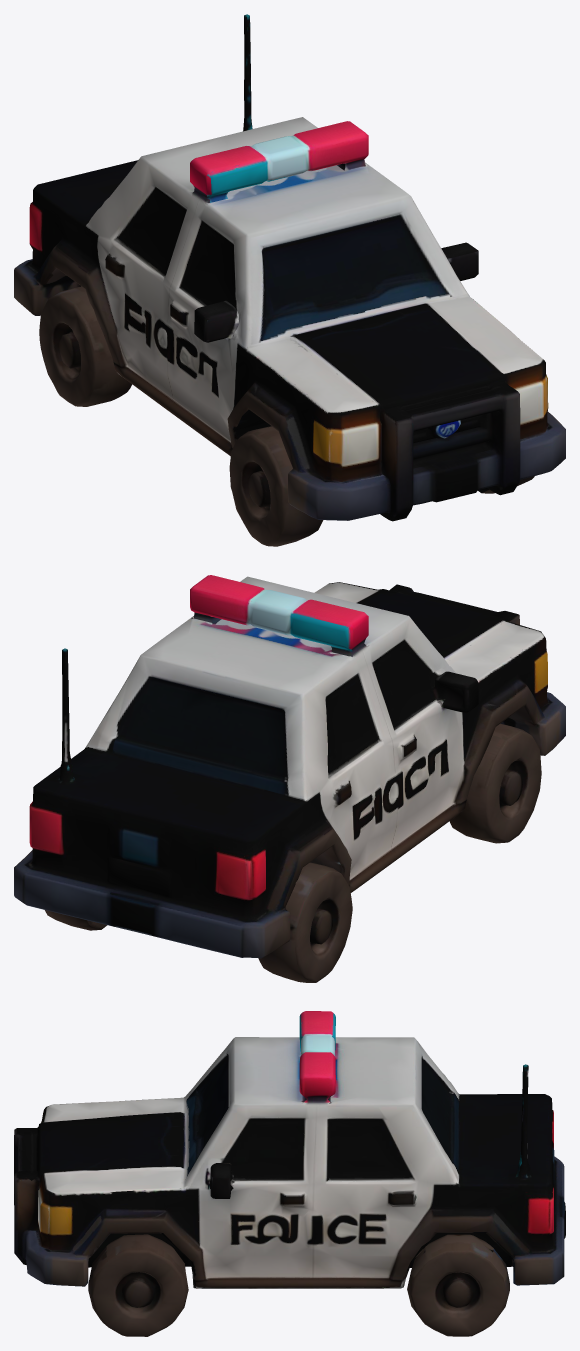
Rendered from Low-Poly-Police-Car-Stylized-3D-Game-Asset-Police-.glb.
3 renders of one model, top to bottom at view 1: azimuth 30°, elevation 25°; view 2: azimuth 150°, elevation 25°; view 3: azimuth 270°, elevation 25°, orthographic. The views are drawn at different scales.
Visible parts, largest first — view 1: world; view 2: world; view 3: world.
Boxes of the visible parts, bbox=[...] form: world: bbox=[14, 14, 565, 546]; world: bbox=[14, 575, 565, 982]; world: bbox=[14, 1011, 565, 1336].
Bounding box in the file's own units: 0.9665 × 1.03 × 1.99.
Materials: 1 (1 with a texture image).
